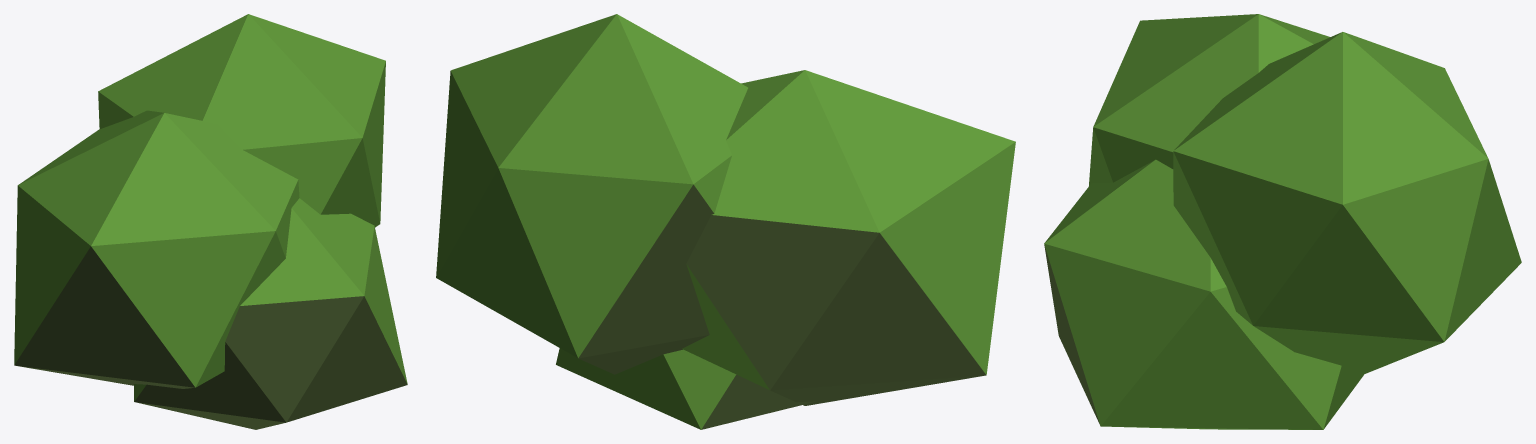
Rendered from toxic_puff.glb.
The picture shows the model from 3 angles, left to right: view 1: azimuth 30°, elevation 25°; view 2: azimuth 150°, elevation 25°; view 3: azimuth 270°, elevation 25°; orthographic projection. The views are drawn at different scales.
Parts seen in each view (by area): view 1: toxic_puff; view 2: toxic_puff; view 3: toxic_puff.
Part boxes in pixels (<box>): toxic_puff: <box>14,14,407,429</box>; toxic_puff: <box>436,14,1015,429</box>; toxic_puff: <box>1044,14,1521,429</box>.
Bounding box in the file's own units: 0.9188 × 0.7813 × 0.7947.
Materials: 2 (2 with a texture image).
